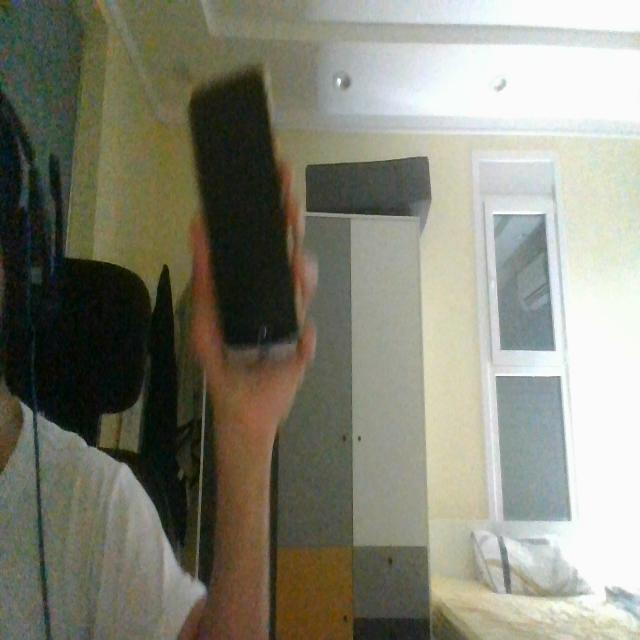Phone: (186, 64, 303, 363)
